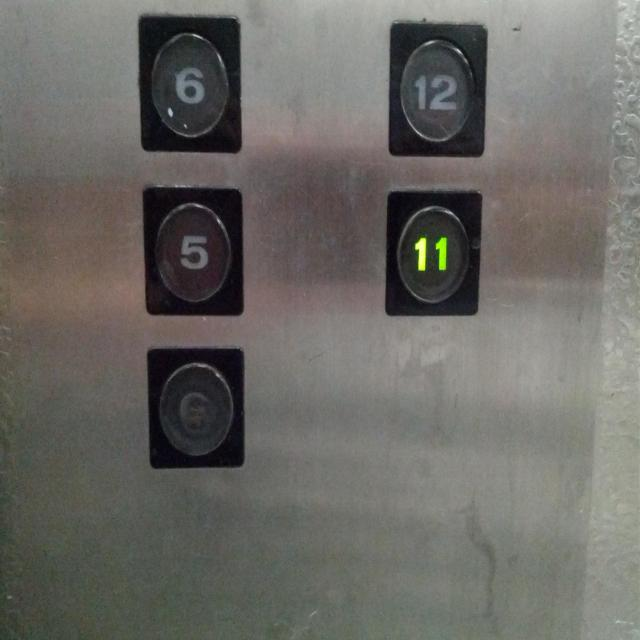11: (382, 184, 484, 320)
12: (386, 16, 489, 162)
5: (138, 181, 247, 325)
6: (137, 12, 246, 156)
G: (140, 340, 248, 473)
